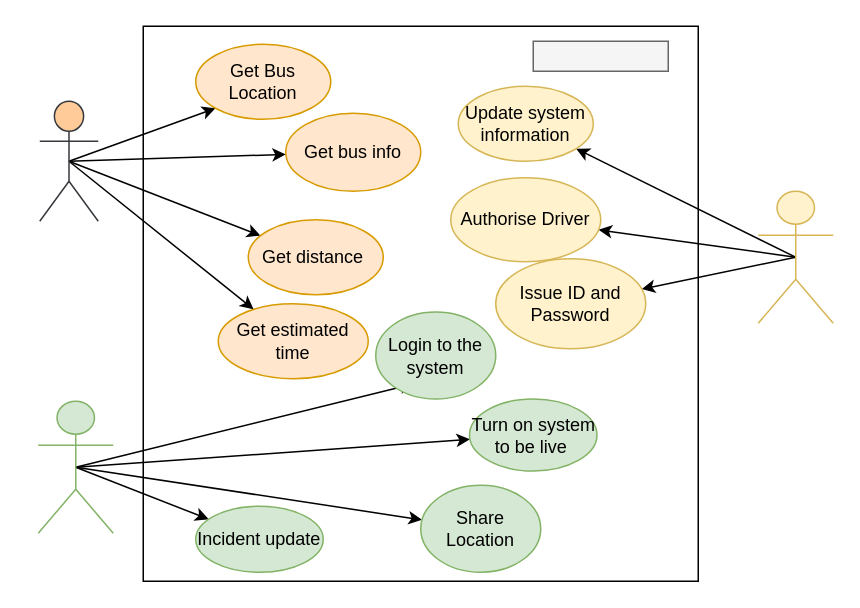
The diagram is 860 pixels wide and 608 high, and some of its shapes have lost their labels. Here are the shapes that lost their labels. From the top down, the centre of each, then its label:
At (x=600, y=55): "System".
At (x=68, y=160): "Passenger".
At (x=795, y=256): "Admin".
At (x=75, y=466): "Driver".
